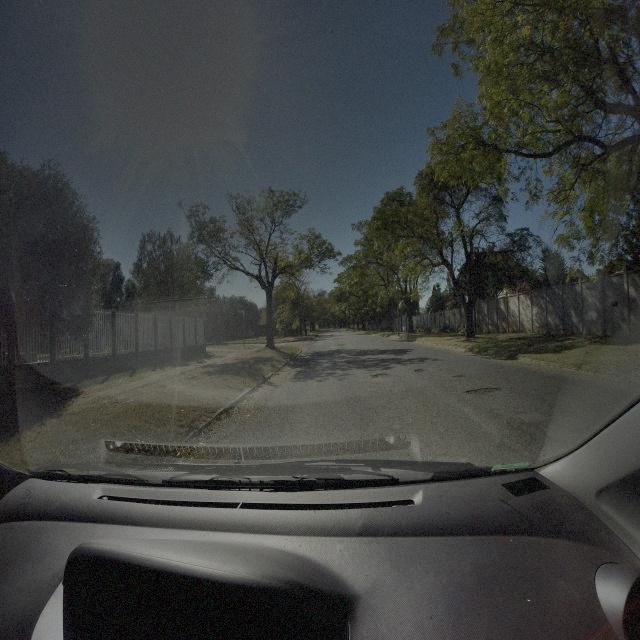pothole: (465, 385, 499, 396), (372, 371, 387, 378), (451, 374, 464, 381), (415, 367, 426, 374)
